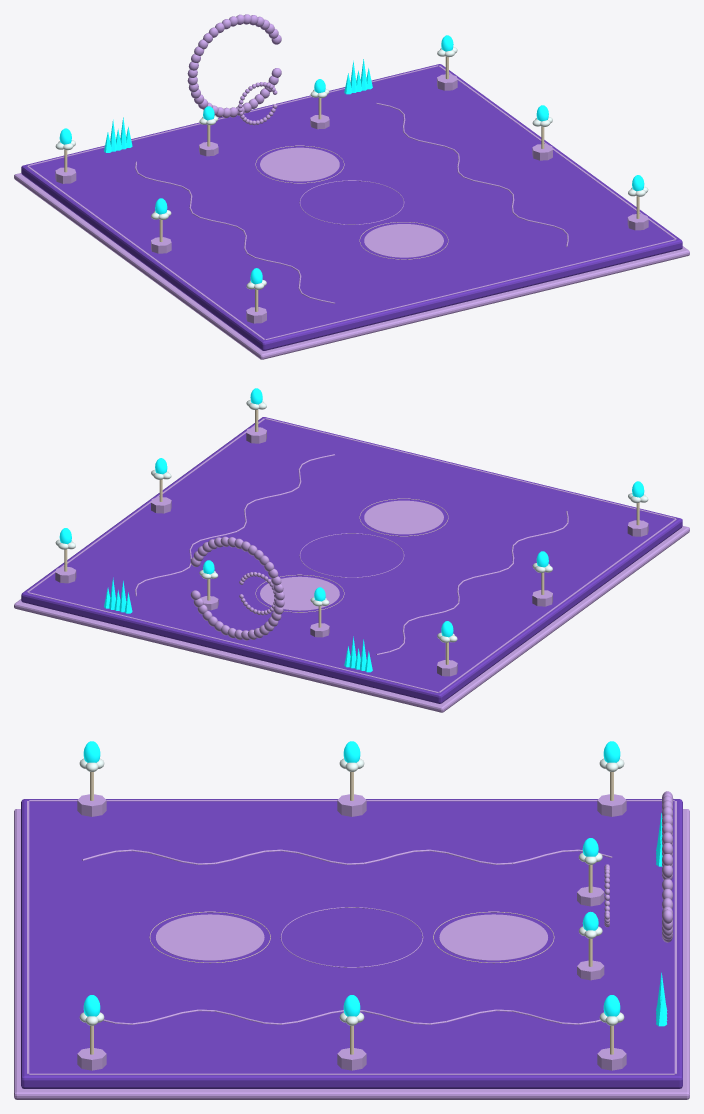
The model's file is mist.glb.
The picture shows the model from 3 angles, top to bottom: view 1: azimuth 30°, elevation 25°; view 2: azimuth 150°, elevation 25°; view 3: azimuth 270°, elevation 25°; orthographic projection. The views are drawn at different scales.
Parts seen in each view (by area): view 1: Gym_mist; view 2: Gym_mist; view 3: Gym_mist.
Part boxes in pixels (bbox=[...]): Gym_mist: bbox=[14, 14, 689, 359]; Gym_mist: bbox=[14, 388, 689, 712]; Gym_mist: bbox=[14, 741, 689, 1099].
Size of the model in its own units: 28.6 by 7.46 by 28.6.
